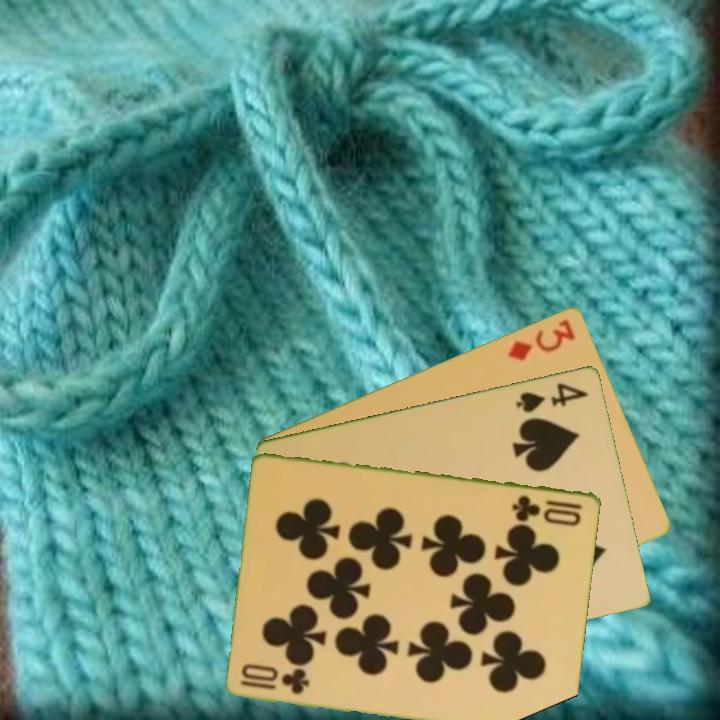10c: (509, 491, 586, 528), (237, 667, 313, 697)
3d: (504, 315, 578, 364)
4s: (512, 378, 591, 415)
